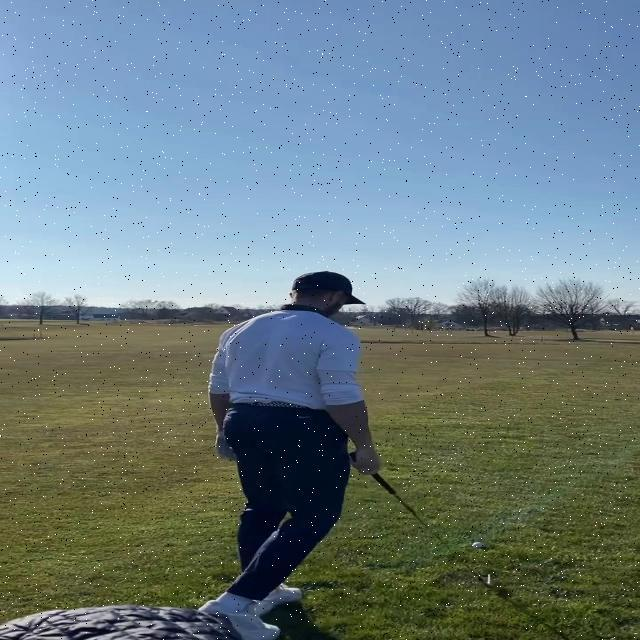ClubHandle: (347, 451, 498, 588)
ClubHead: (486, 574, 498, 588)
GolfBall: (471, 541, 484, 548)
